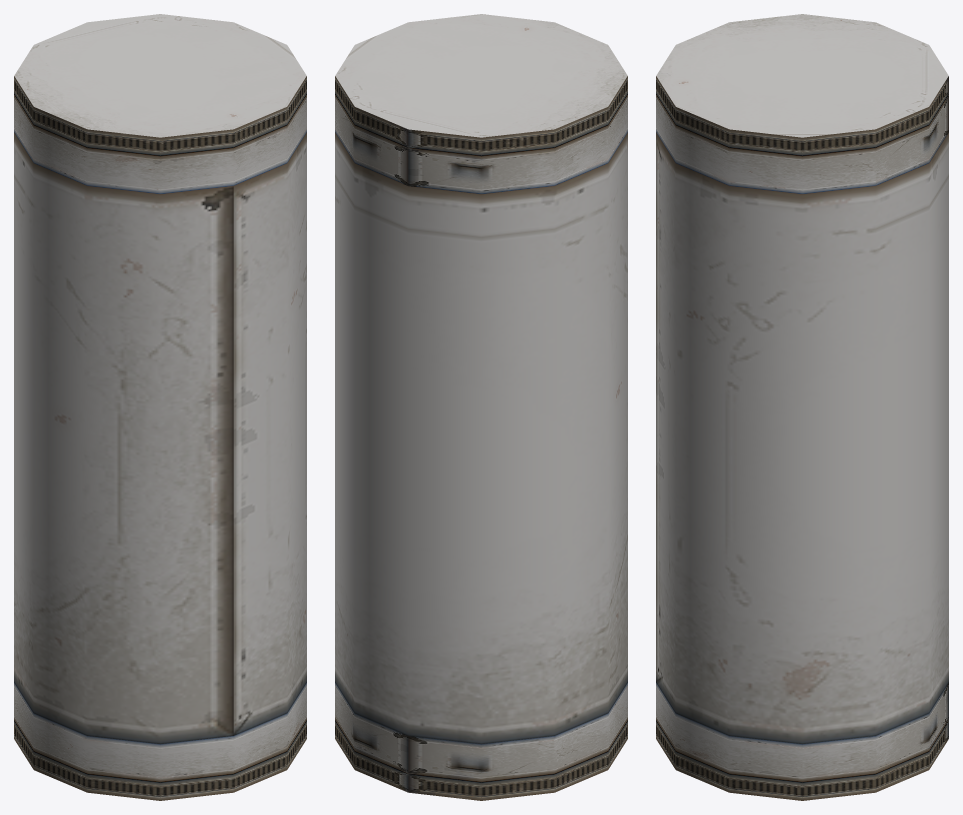
File: scifi_pipe_large_2.FBX
3 renders of one model, left to right at view 1: azimuth 30°, elevation 25°; view 2: azimuth 150°, elevation 25°; view 3: azimuth 270°, elevation 25°, orthographic.
Parts seen in each view (by area): view 1: Cylinder008; view 2: Cylinder008; view 3: Cylinder008.
Boxes of the visible parts, left/top/right/bottom form: Cylinder008: left=14, top=14, right=306, bottom=800; Cylinder008: left=335, top=14, right=627, bottom=800; Cylinder008: left=656, top=14, right=948, bottom=800.
Size of the model in its own units: 102 by 254 by 102.
